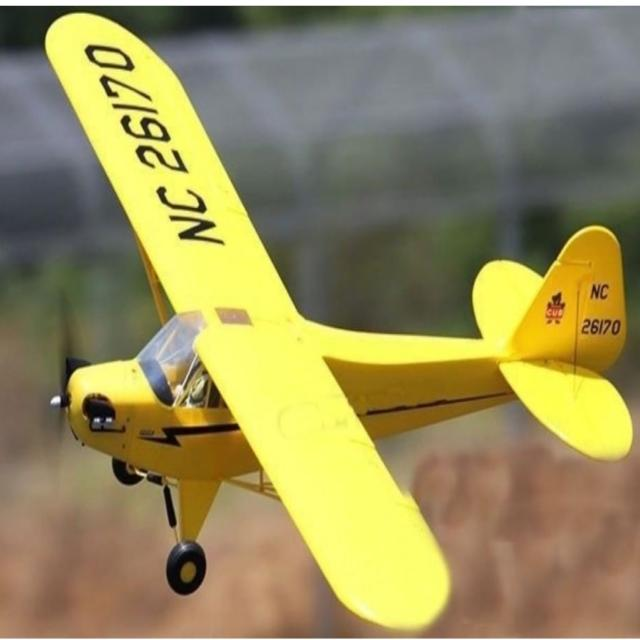iha: (42, 9, 636, 640)
